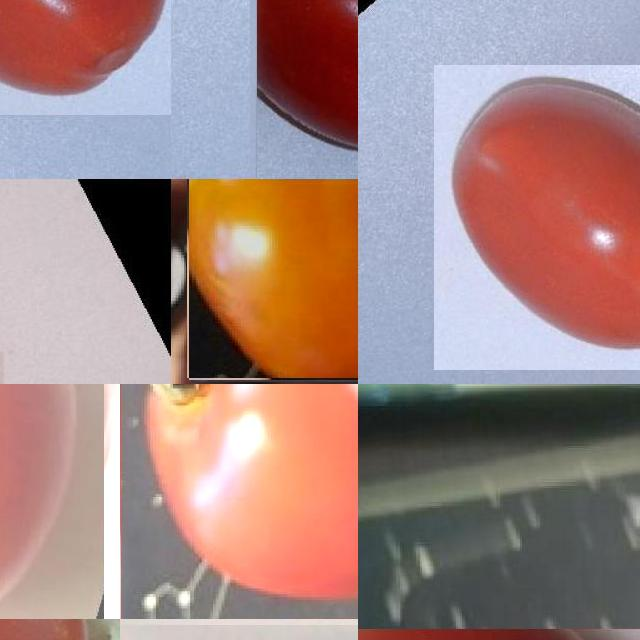Fresh Tomato: (434, 65, 640, 370), (120, 384, 358, 619), (189, 179, 358, 380), (0, 384, 120, 619), (0, 0, 171, 115), (256, 0, 358, 179)
